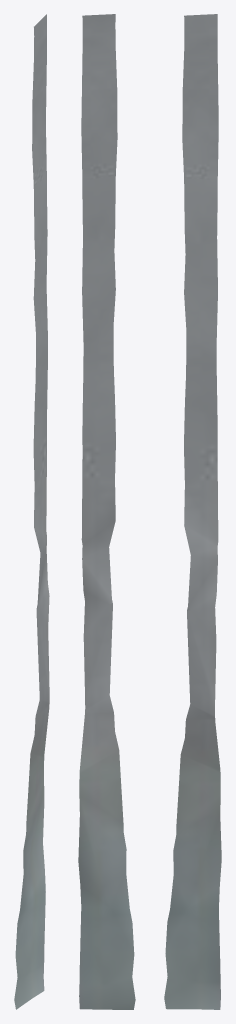
The picture shows the model from 3 angles, left to right: view 1: azimuth 30°, elevation 25°; view 2: azimuth 150°, elevation 25°; view 3: azimuth 330°, elevation 25°; orthographic projection.
Size of the model in its own units: 0.1743 by 3.83 by 0.0986.
Materials: 1 (1 with a texture image).
